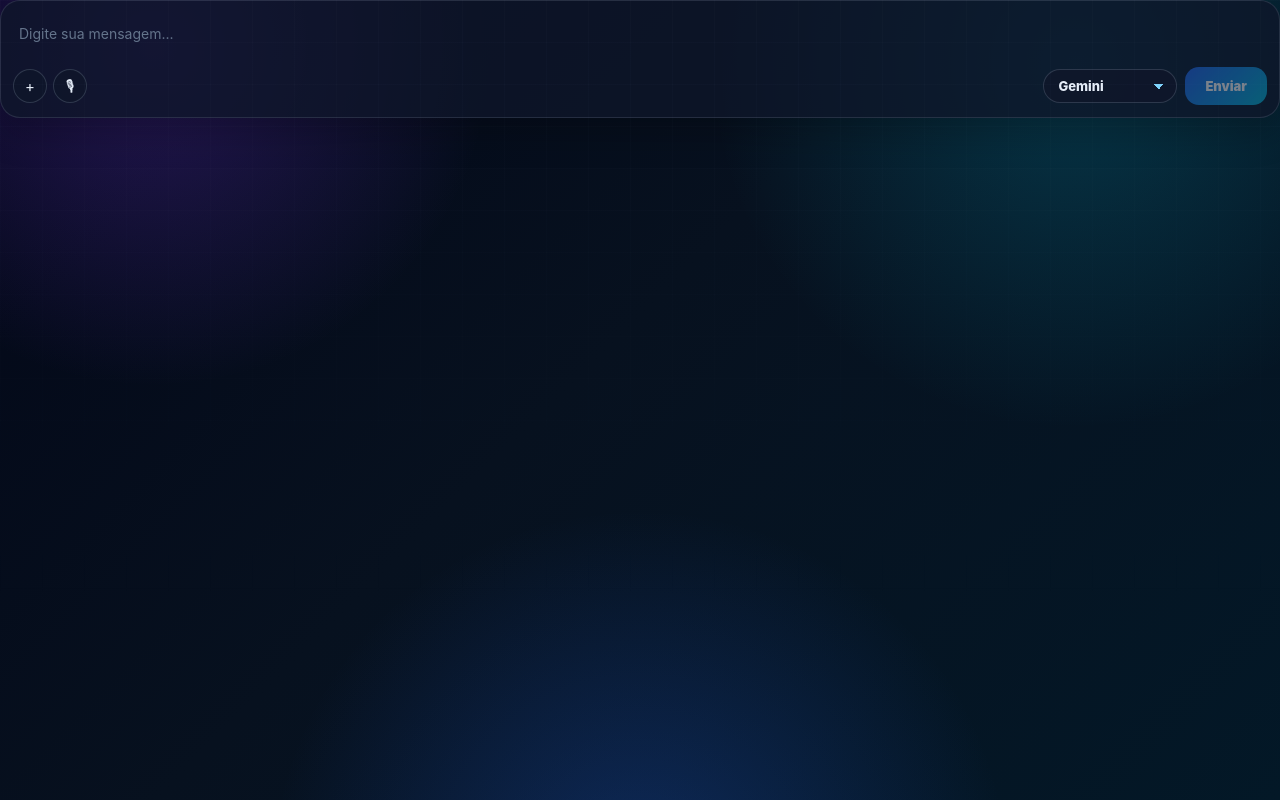
Scenario: composer — microfone › informa permissão negada
Click the button named "Ditar mensagem por voz" at point(70, 86), box [53,69,87,103]
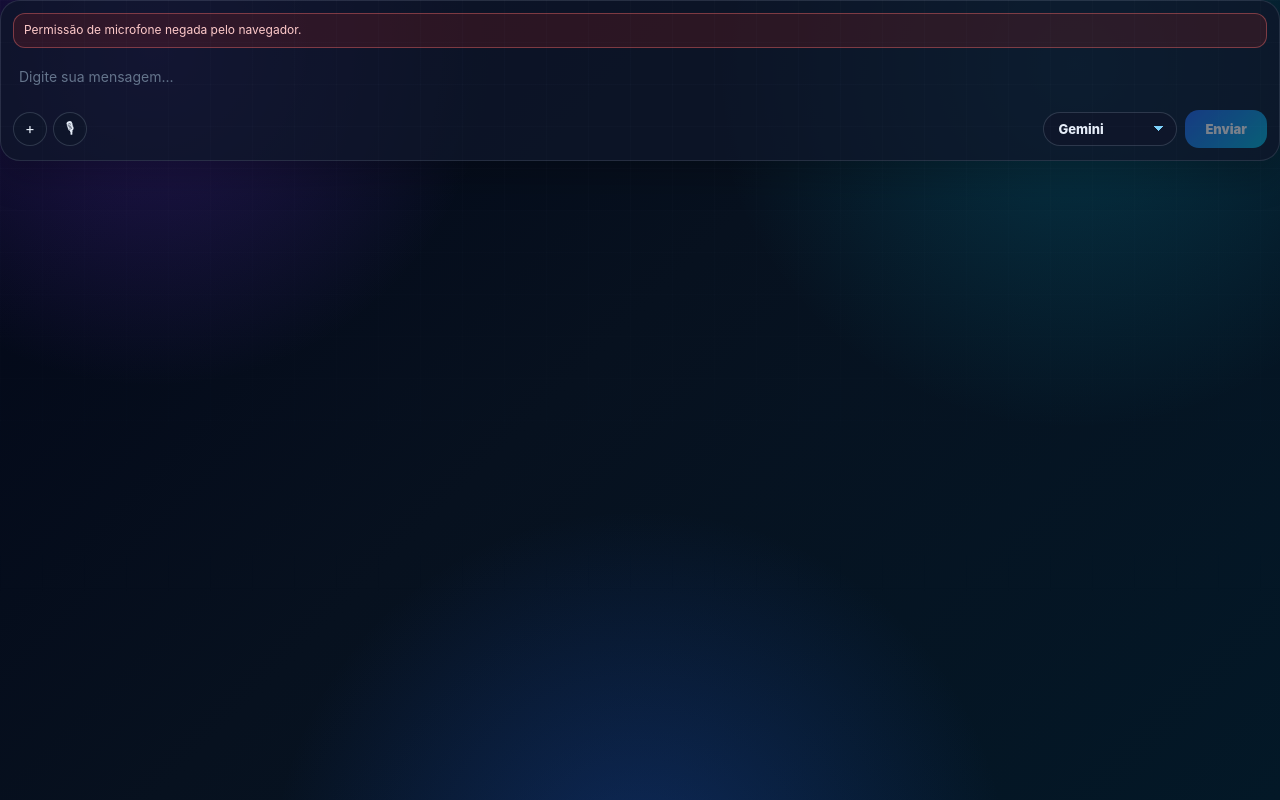
Result: the message shows "Permissão de microfone negada" at [24,22,301,37]
